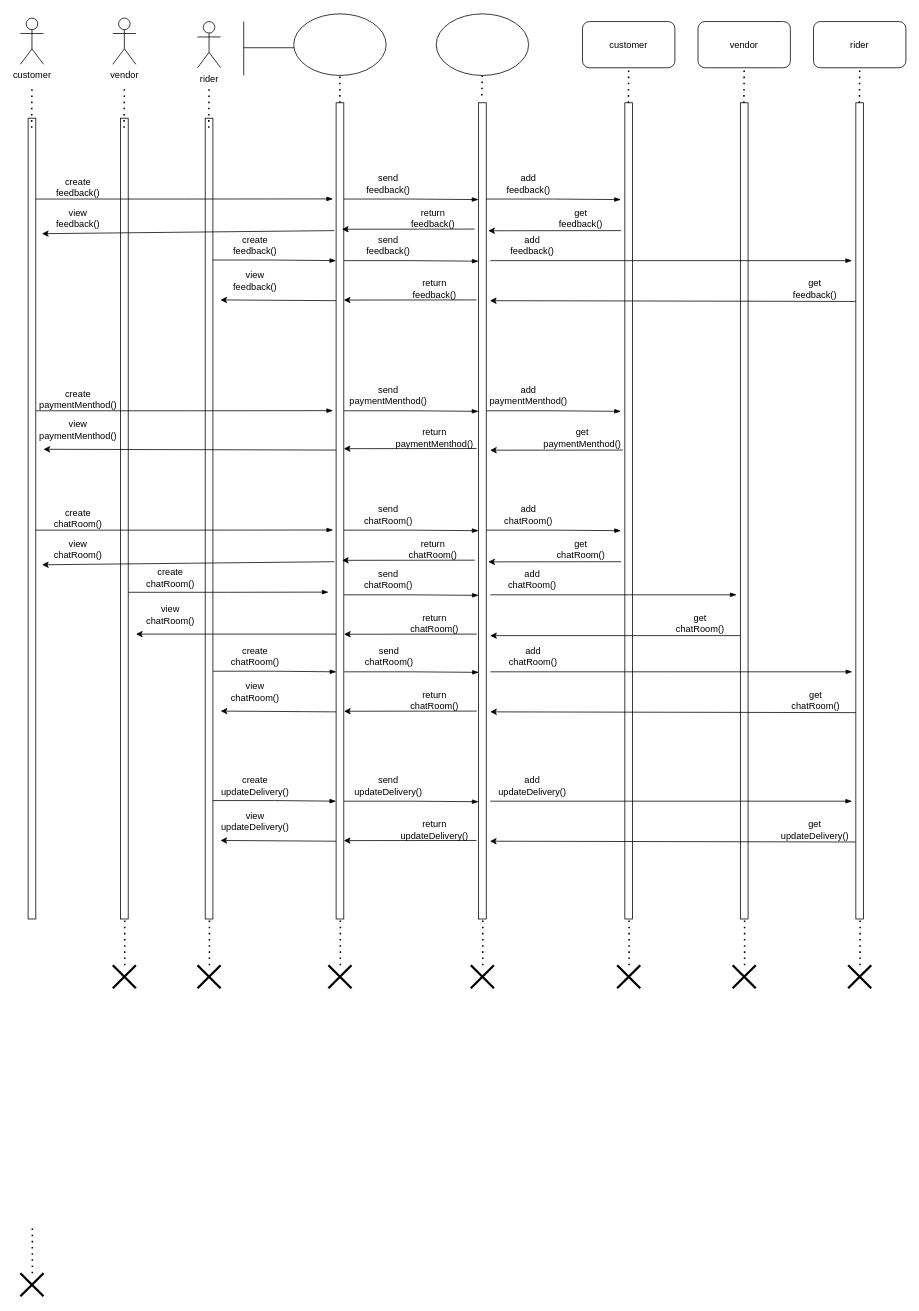
This 919x1311 diagram has some shape labels left out. The centre of each missing label's shape, as x and y in pixels:
: view transaction interface controller: the point at 482,44
: view transaction user interface: the point at 339,44
